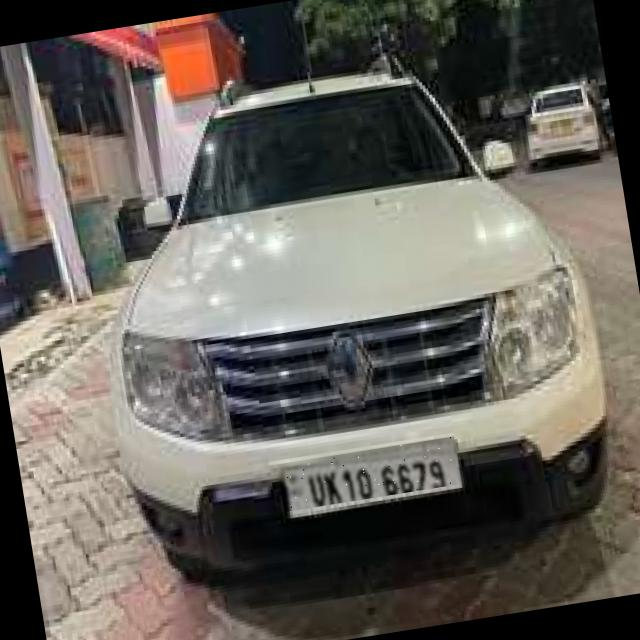Plate: (278, 438, 460, 513)
